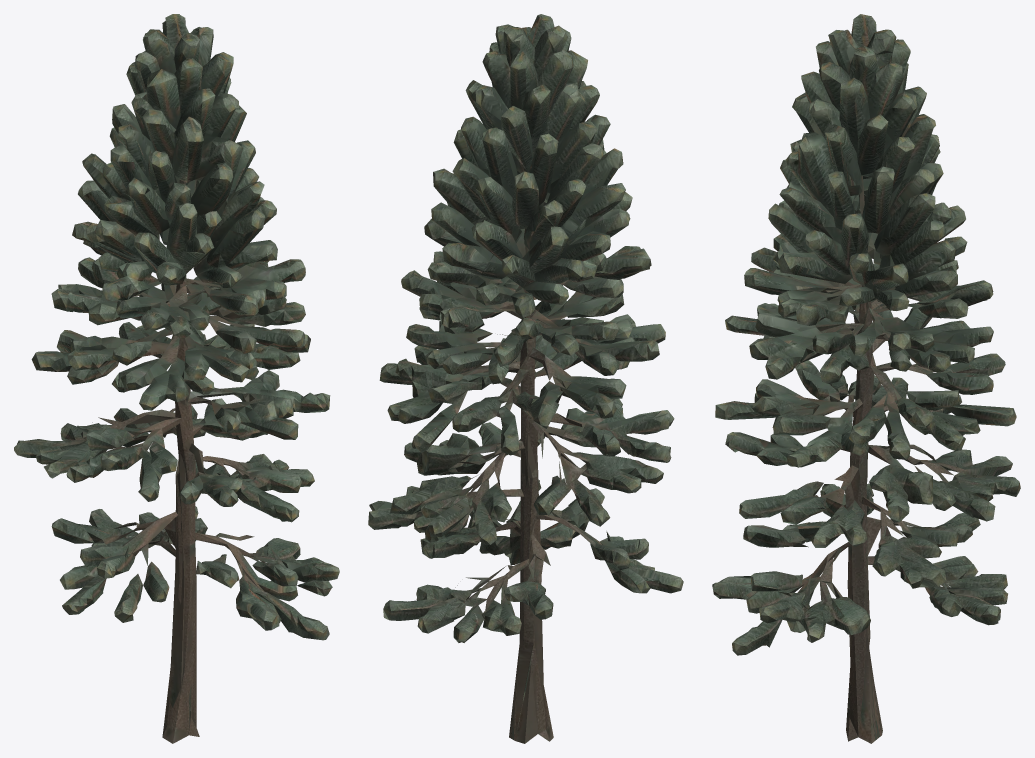
File: conifer_fir.glb
The picture shows the model from 3 angles, left to right: view 1: azimuth 30°, elevation 25°; view 2: azimuth 150°, elevation 25°; view 3: azimuth 270°, elevation 25°; orthographic projection.
Bounding box in the file's own units: 0.7404 × 1.89 × 0.7463.
Materials: 1 (1 with a texture image).
